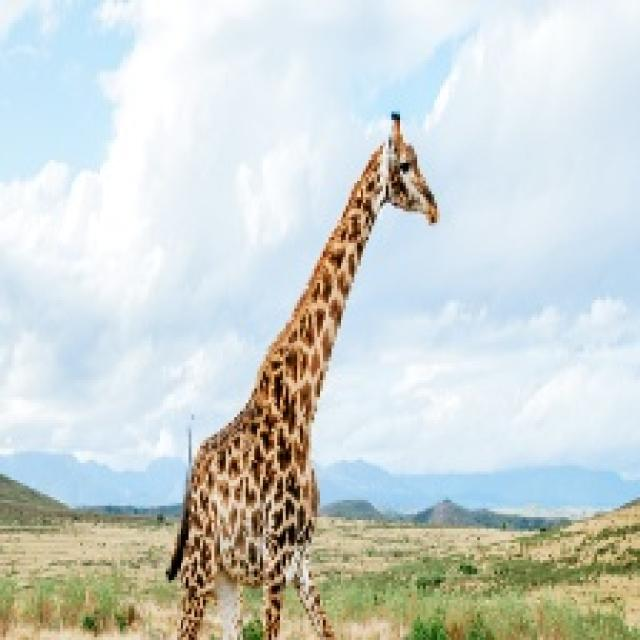bear: (128, 121, 481, 640)
